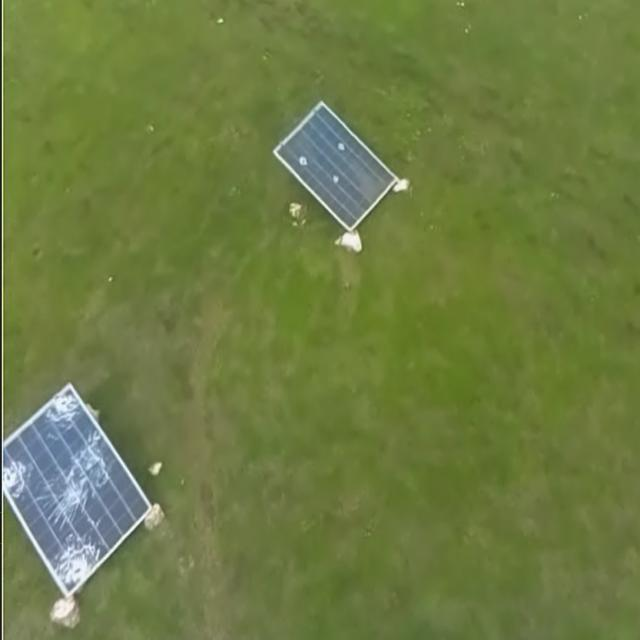faulty: (1, 383, 145, 594), (276, 104, 395, 232)
